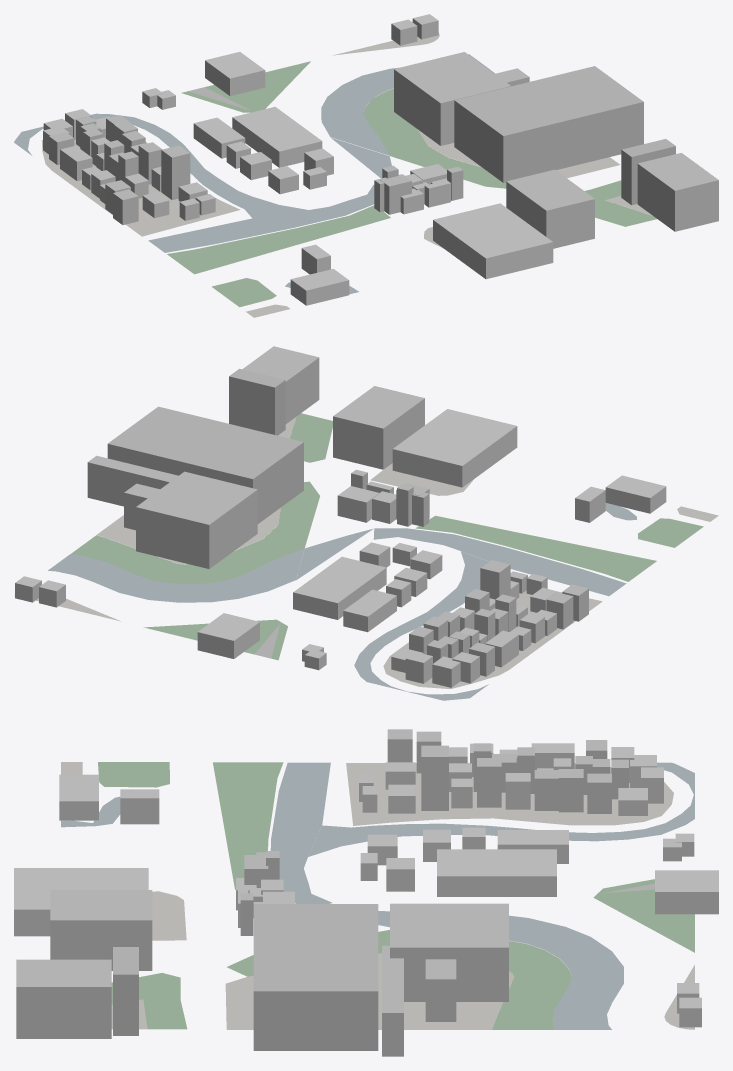
The model's file is 105_101_mid.glb.
3 views of the same model, one above another, from view 1: azimuth 30°, elevation 25°; view 2: azimuth 150°, elevation 25°; view 3: azimuth 270°, elevation 25° (orthographic). The views are drawn at different scales.
Bounding box in the file's own units: 553 × 55.1 × 556.
